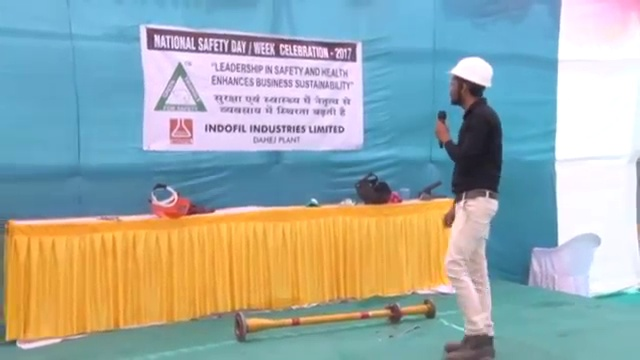helmet: (445, 53, 495, 88)
helmet_on: (445, 53, 496, 110)
person: (440, 53, 501, 360)
